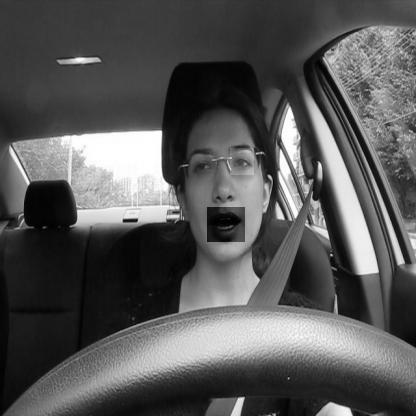seatbelt: (156, 79, 309, 416)
